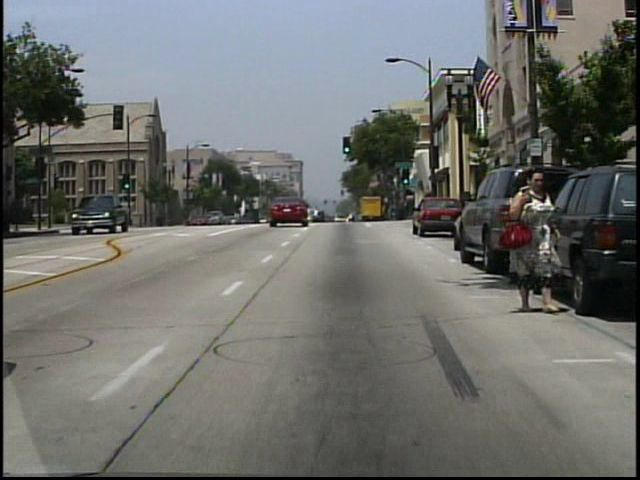person: (503, 162, 570, 315)
